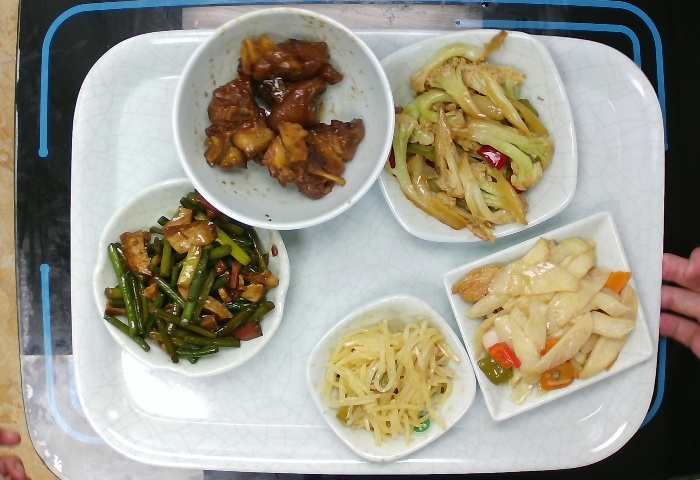JYsf-Ao_Yuan_Wan: (92, 181, 291, 385)
JYsf-Fan_Wan: (172, 1, 397, 228)
JYsf-Si_Fang_Die: (301, 286, 483, 466)
WCQzf-Da_Si_Fang_Die: (368, 28, 580, 246)
WCQzf-Ru_Ci_Si_Fang_Die: (447, 215, 655, 420)
